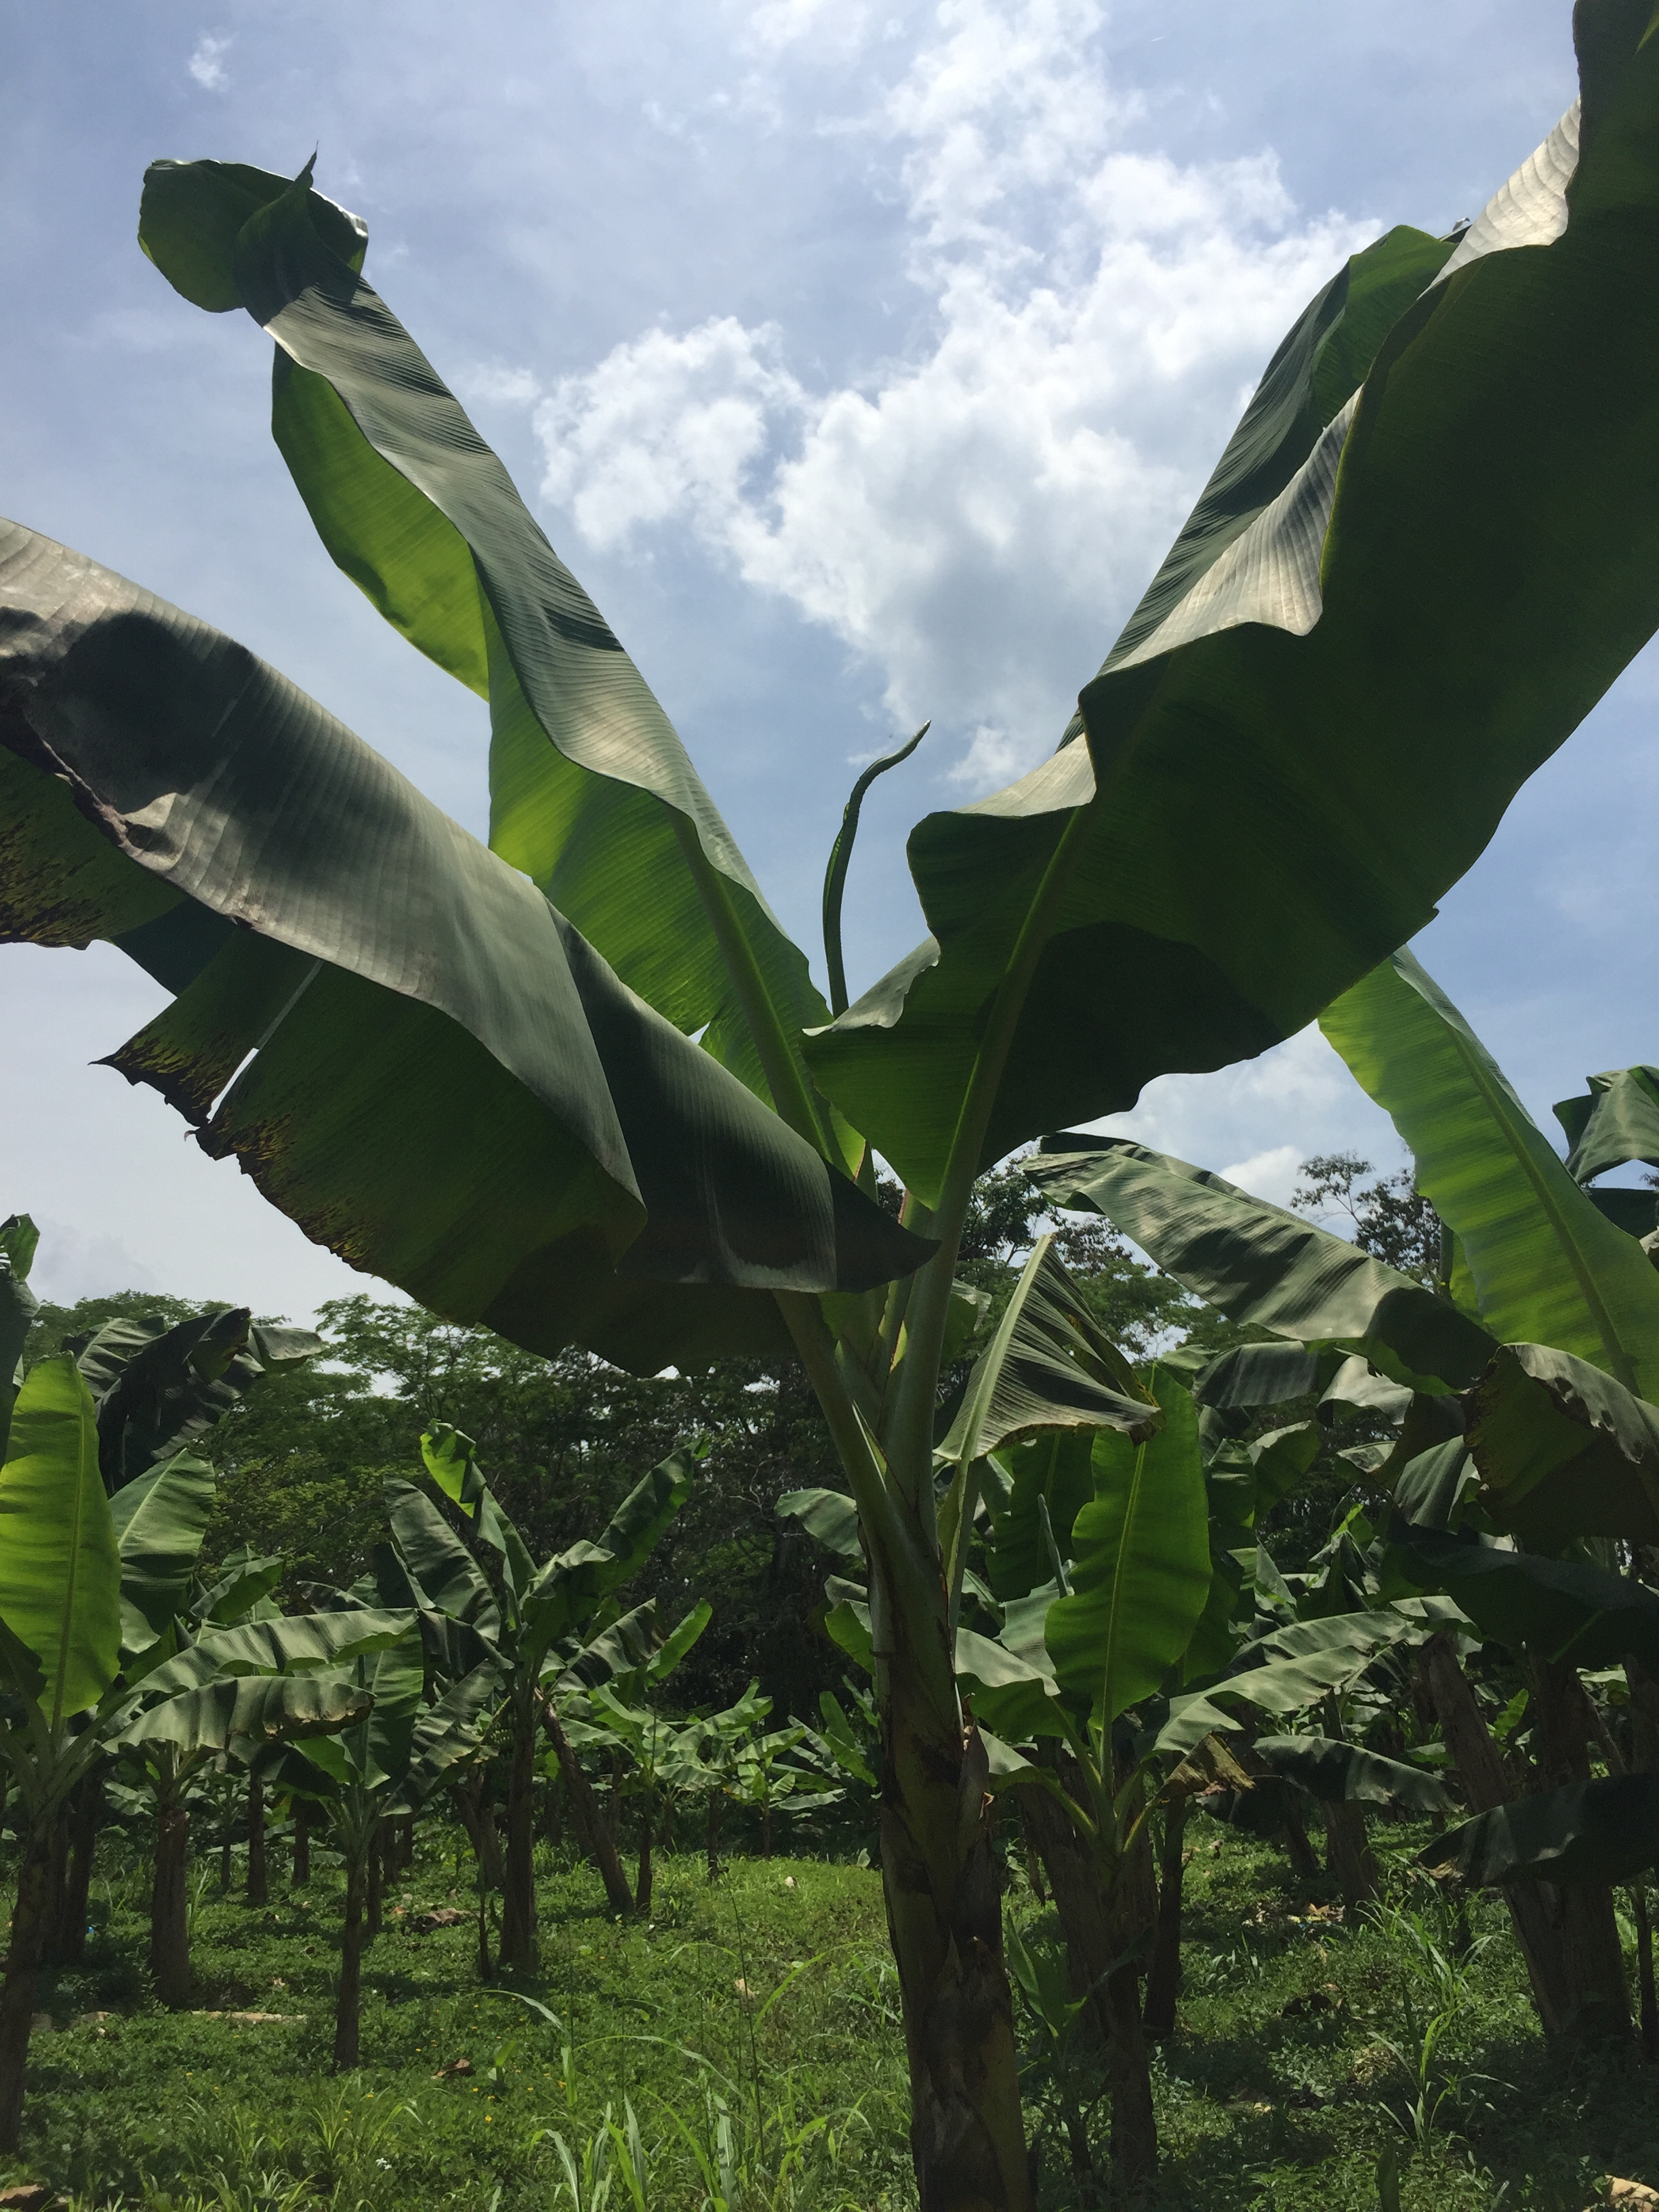candleleafs: (823, 719, 934, 1026)
